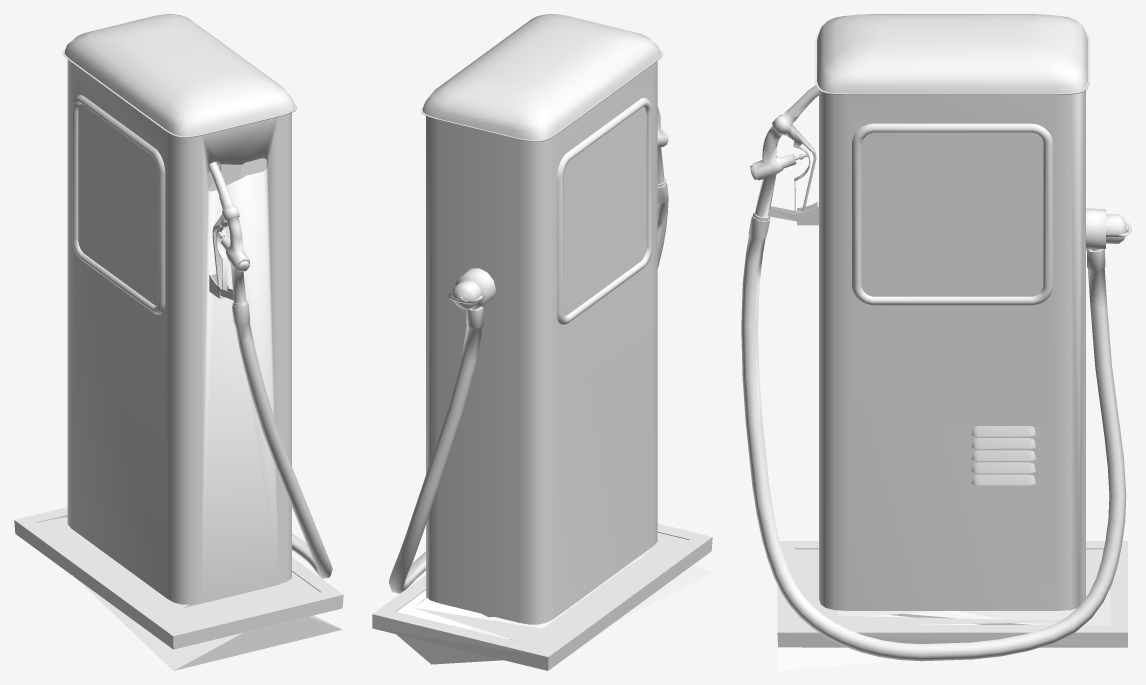
The picture shows the model from 3 angles, left to right: view 1: azimuth 30°, elevation 25°; view 2: azimuth 150°, elevation 25°; view 3: azimuth 270°, elevation 25°; orthographic projection. The views are drawn at different scales.
Bounding box in the file's own units: 0.7605 × 1.95 × 1.16.
Materials: 1 (1 with a texture image).
